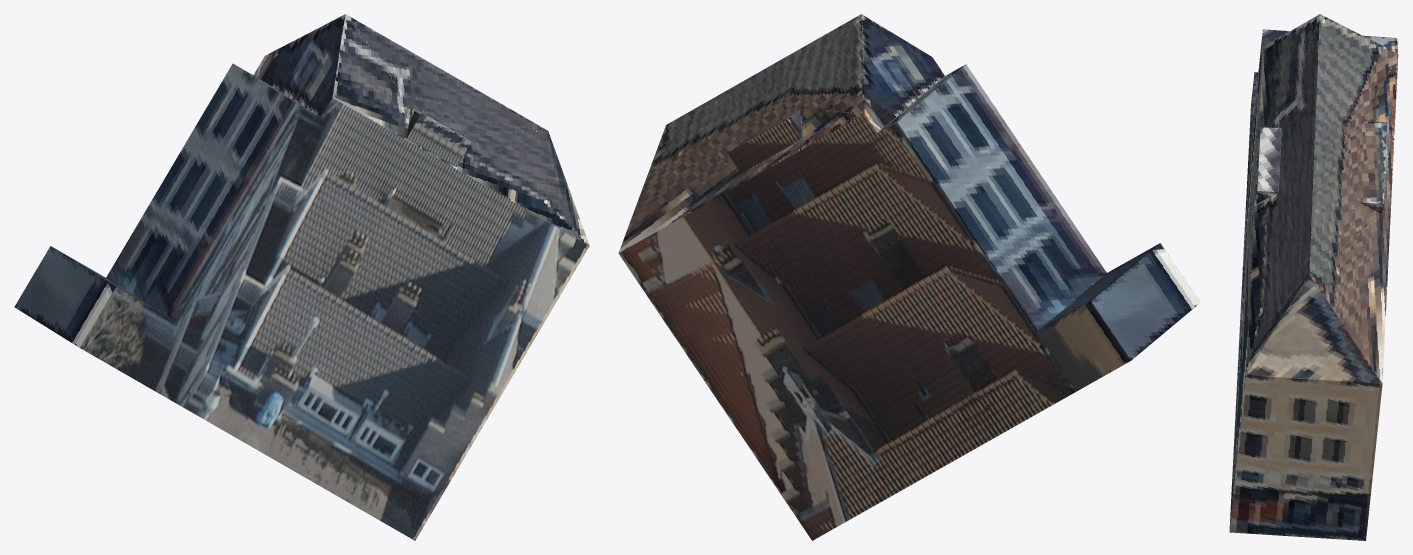
3 views of the same model, side by side, from view 1: azimuth 30°, elevation 25°; view 2: azimuth 150°, elevation 25°; view 3: azimuth 270°, elevation 25° (orthographic).
Visible parts, largest first — view 1: BAG_0599100000671619 (×6); view 2: BAG_0599100000671619 (×5); view 3: BAG_0599100000671619 (×6).
Boxes of the visible parts, box(x1,y1,x2,y2) form: BAG_0599100000671619 (×6): box(14, 14, 589, 540); BAG_0599100000671619 (×5): box(618, 14, 1200, 540); BAG_0599100000671619 (×6): box(1229, 14, 1398, 540).
Size of the model in its own units: 23.69 by 22.65 by 6.75.
7 materials, 6 textured.
